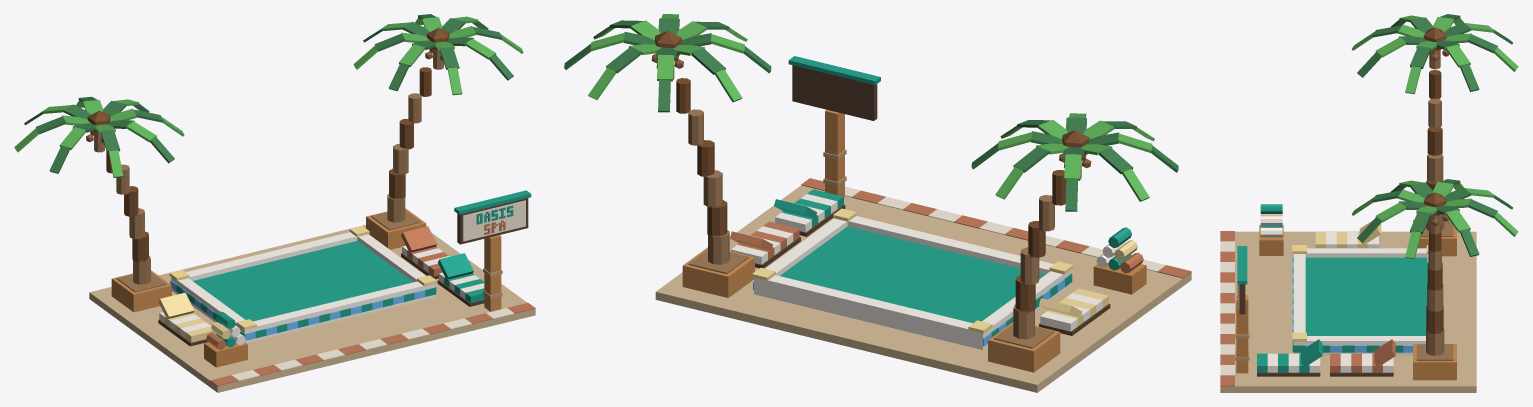
File: CatCafe_Camp_Desert_OasisSpa.glb
3 renders of one model, left to right at view 1: azimuth 30°, elevation 25°; view 2: azimuth 150°, elevation 25°; view 3: azimuth 270°, elevation 25°, orthographic. The views are drawn at different scales.
Parts seen in each view (by area): view 1: CatCafe_Camp_Desert_OasisSpa, CatCafe_Camp_Desert_OasisSpa_Water; view 2: CatCafe_Camp_Desert_OasisSpa, CatCafe_Camp_Desert_OasisSpa_Water; view 3: CatCafe_Camp_Desert_OasisSpa, CatCafe_Camp_Desert_OasisSpa_Water.
Part boxes in pixels (box(x1,y1,x2,y2)): CatCafe_Camp_Desert_OasisSpa: box(14, 14, 535, 392); CatCafe_Camp_Desert_OasisSpa_Water: box(193, 241, 413, 321); CatCafe_Camp_Desert_OasisSpa: box(564, 14, 1191, 392); CatCafe_Camp_Desert_OasisSpa_Water: box(780, 226, 1045, 322); CatCafe_Camp_Desert_OasisSpa: box(1220, 14, 1518, 392); CatCafe_Camp_Desert_OasisSpa_Water: box(1305, 257, 1427, 335).
Bounding box in the file's own units: 22.85 × 9.3 × 12.22.
Materials: 1 (1 with a texture image).
